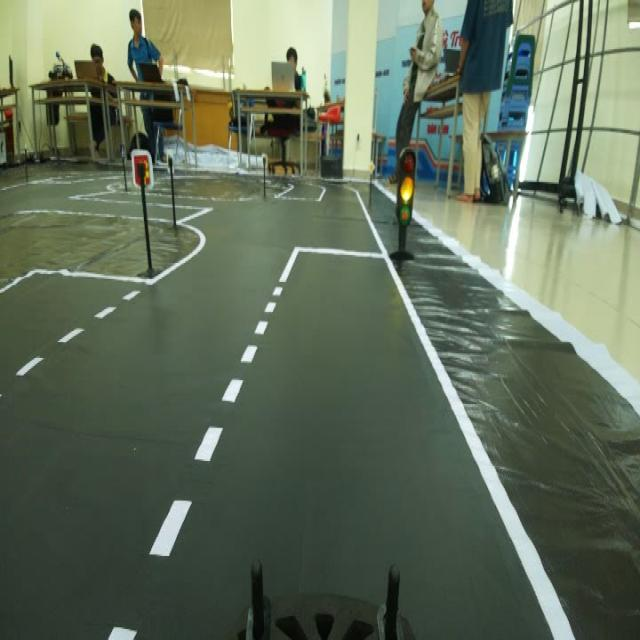trafficlight: (382, 139, 422, 273)
